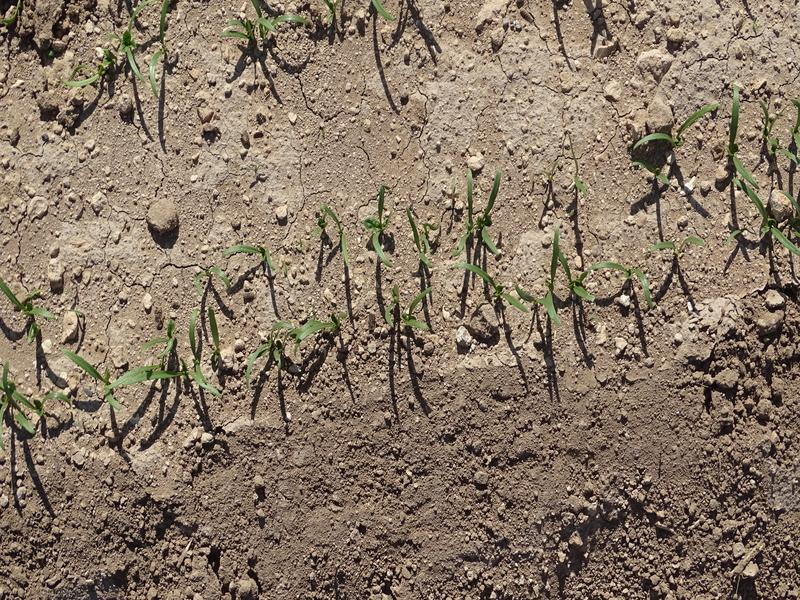Espinaca: (64, 308, 223, 419), (530, 222, 650, 328), (729, 82, 800, 252), (245, 319, 336, 380), (451, 169, 507, 254), (1, 358, 57, 434), (631, 103, 721, 149), (460, 260, 530, 316), (123, 1, 171, 81), (385, 278, 439, 339), (5, 279, 58, 338), (222, 10, 311, 43), (367, 184, 395, 268), (317, 201, 350, 267), (406, 205, 440, 268), (223, 238, 276, 273), (655, 234, 709, 251)
